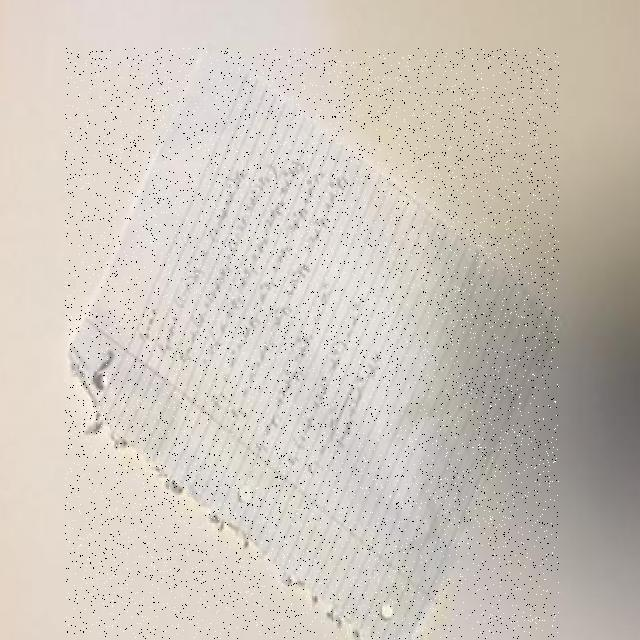paper: (66, 48, 559, 639)
